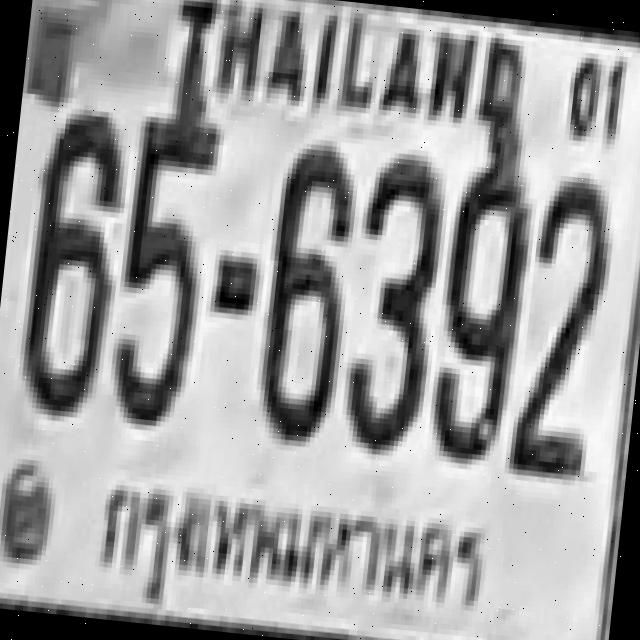2: (516, 168, 617, 419), (502, 232, 606, 473)
3: (338, 147, 444, 450), (338, 178, 442, 450)
5: (100, 110, 230, 449)
6: (15, 105, 130, 414), (252, 136, 358, 438)
9: (426, 185, 529, 462)
Bangkok: (73, 467, 499, 640)
